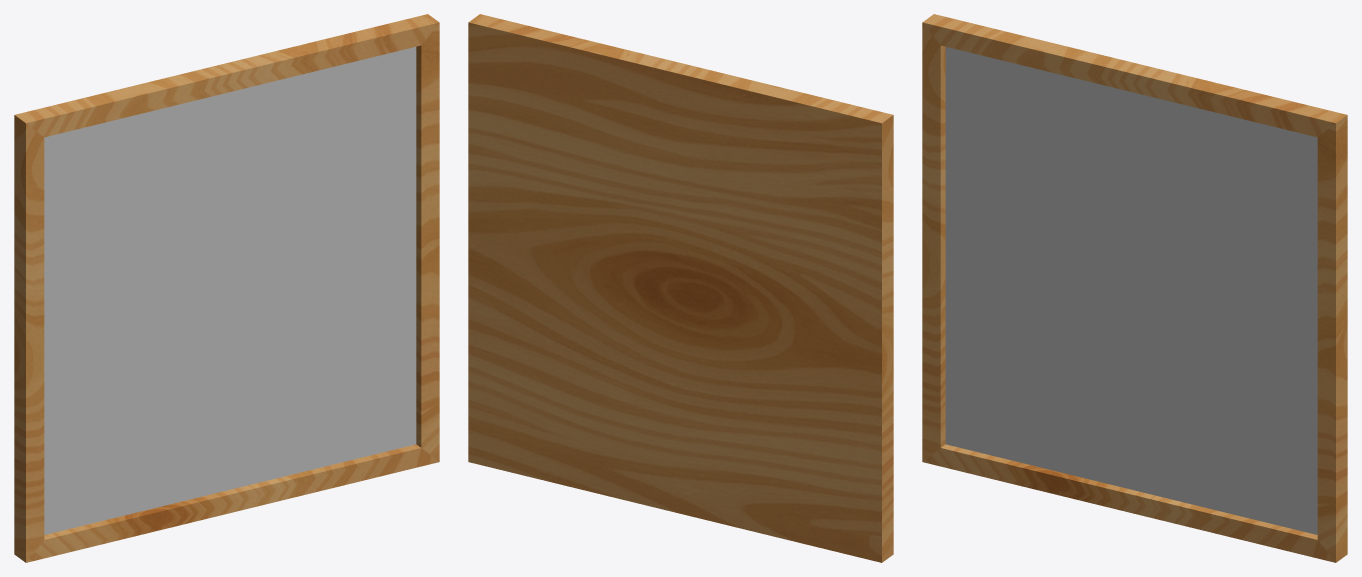
Rendered from Picture_Hang_4_Broken.fbx.
3 renders of one model, left to right at view 1: azimuth 30°, elevation 25°; view 2: azimuth 150°, elevation 25°; view 3: azimuth 330°, elevation 25°, orthographic.
Visible parts, largest first — view 1: Picture_Hang_4, Picture_Hang_4_Broken_Piece.000, Picture_Hang_4_Broken; view 2: Picture_Hang_4; view 3: Picture_Hang_4, Picture_Hang_4_Broken_Piece.000.
Boxes of the visible parts, x1,y1,x2,y2 form: Picture_Hang_4: [14, 14, 439, 562]; Picture_Hang_4_Broken_Piece.000: [44, 47, 416, 534]; Picture_Hang_4_Broken: [56, 45, 421, 536]; Picture_Hang_4: [468, 14, 893, 562]; Picture_Hang_4: [922, 14, 1347, 562]; Picture_Hang_4_Broken_Piece.000: [945, 47, 1317, 534].
Bounding box in the file's own units: 104 × 105 × 5.02.
